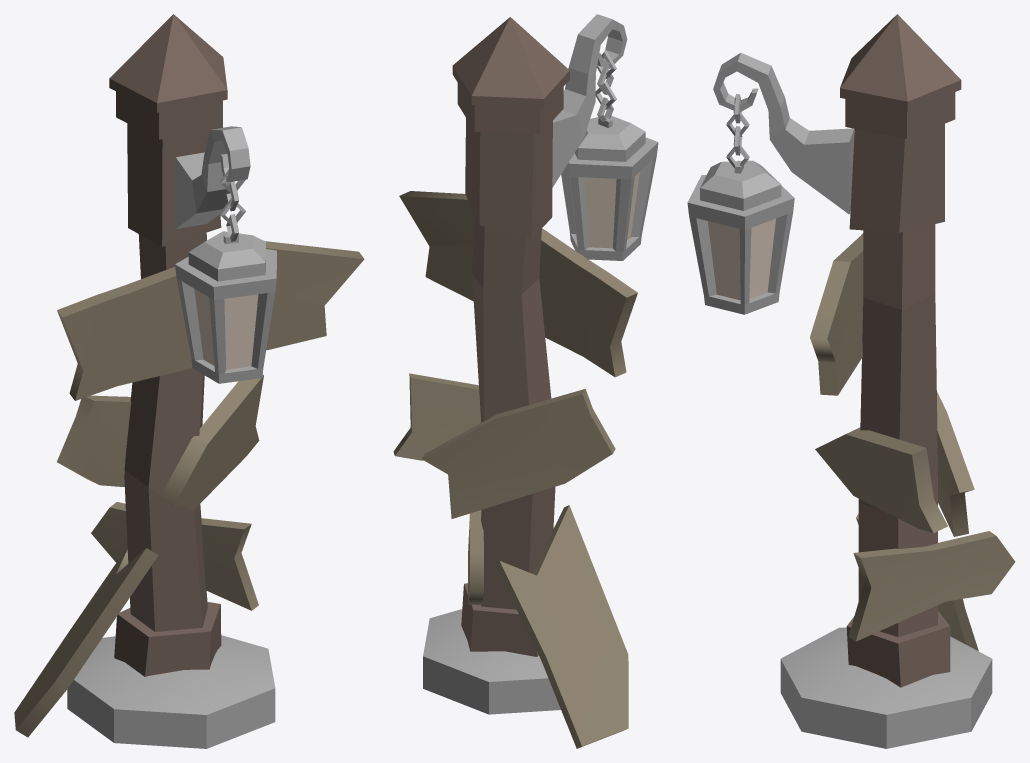
Rendered from fbSignpost.fbx.
3 renders of one model, left to right at view 1: azimuth 30°, elevation 25°; view 2: azimuth 150°, elevation 25°; view 3: azimuth 270°, elevation 25°, orthographic. The views are drawn at different scales.
Parts seen in each view (by area): view 1: signpostWood2, signpostWood1, signpostMetal, signpostGlass; view 2: signpostWood2, signpostWood1, signpostMetal, signpostGlass; view 3: signpostWood1, signpostMetal, signpostWood2, signpostGlass.
Boxes of the visible parts, x1,y1,x2,y2 form: signpostWood2: (14, 241, 364, 737); signpostWood1: (109, 14, 227, 676); signpostMetal: (67, 126, 276, 748); signpostGlass: (194, 289, 258, 369); signpostWood2: (393, 191, 637, 748); signpostWood1: (452, 17, 569, 656); signpostMetal: (423, 14, 658, 714); signpostGlass: (584, 172, 639, 248); signpostWood1: (840, 14, 961, 687); signpostMetal: (687, 53, 992, 748); signpostWood2: (810, 233, 1015, 651); signpostGlass: (707, 218, 775, 300).
Bounding box in the file's own units: 169 × 392 × 163.
